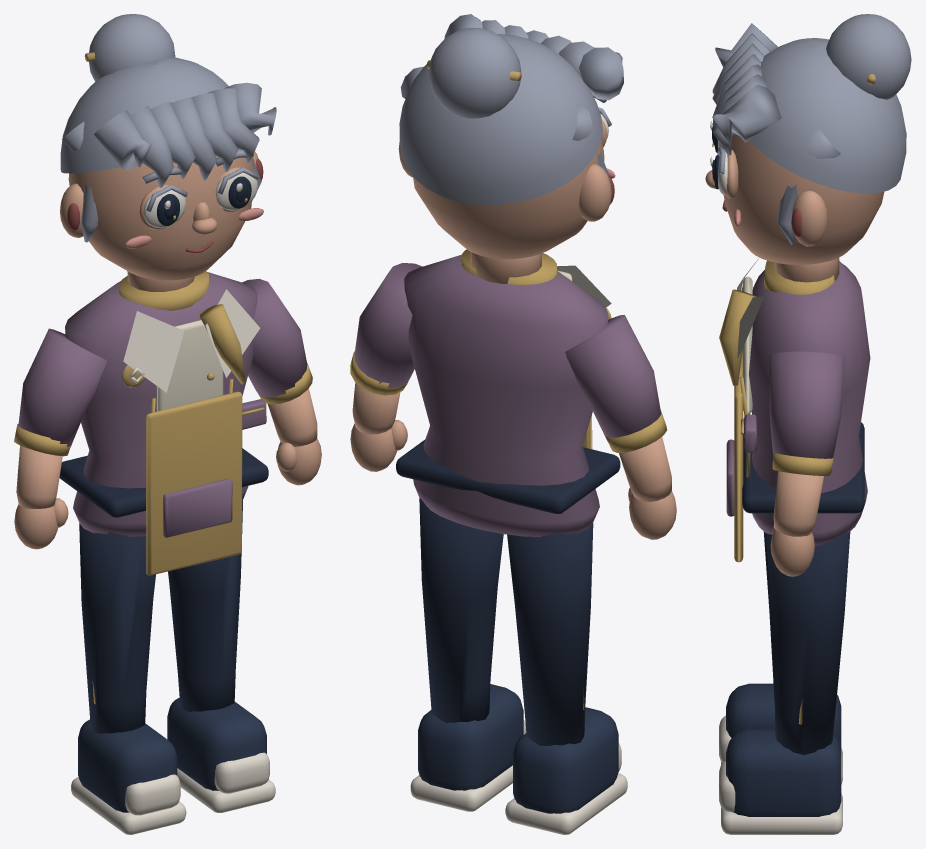
Rendered from blocky_character_f.glb.
3 views of the same model, side by side, from view 1: azimuth 30°, elevation 25°; view 2: azimuth 150°, elevation 25°; view 3: azimuth 270°, elevation 25° (orthographic). The views are drawn at different scales.
Visible parts, largest first — view 1: figure.005; view 2: figure.005; view 3: figure.005.
Part boxes in pixels (x1,y1,x2,y2): figure.005: (14,14,321,834); figure.005: (350,14,676,834); figure.005: (705,14,911,834).
Size of the model in its own units: 1.05 by 2.5 by 0.5979.
